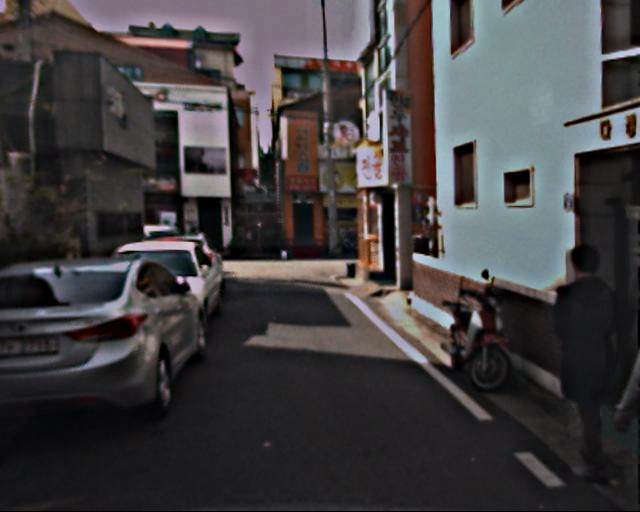person: (530, 241, 633, 469)
